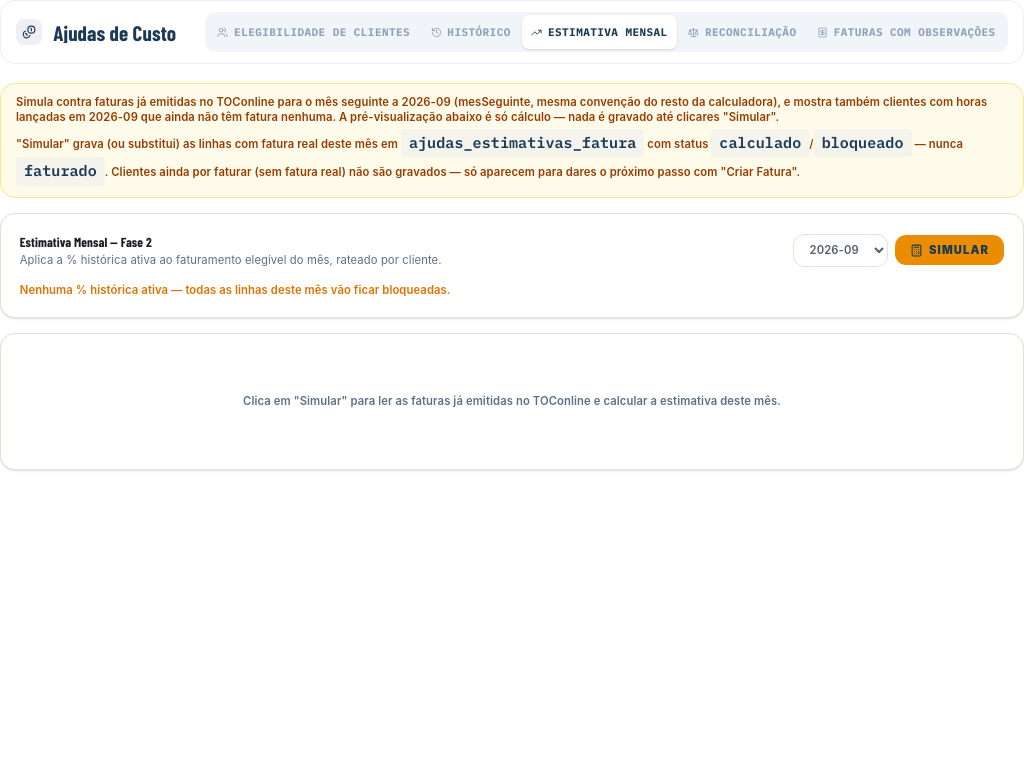
Test: EstimativaMensalTab — Fase 2a com faturas reais do TOConline › resolução manual de fatura sem cliente correspondente › "Não corresponde a nenhum cliente" confirma a ausência de correspondência e tira o aviso, sem entrar no cálculo
This screenshot has width=1024, height=768.
Click the button "Simular" at (950, 250), box top-left (895, 235), bottom-right (1004, 265)
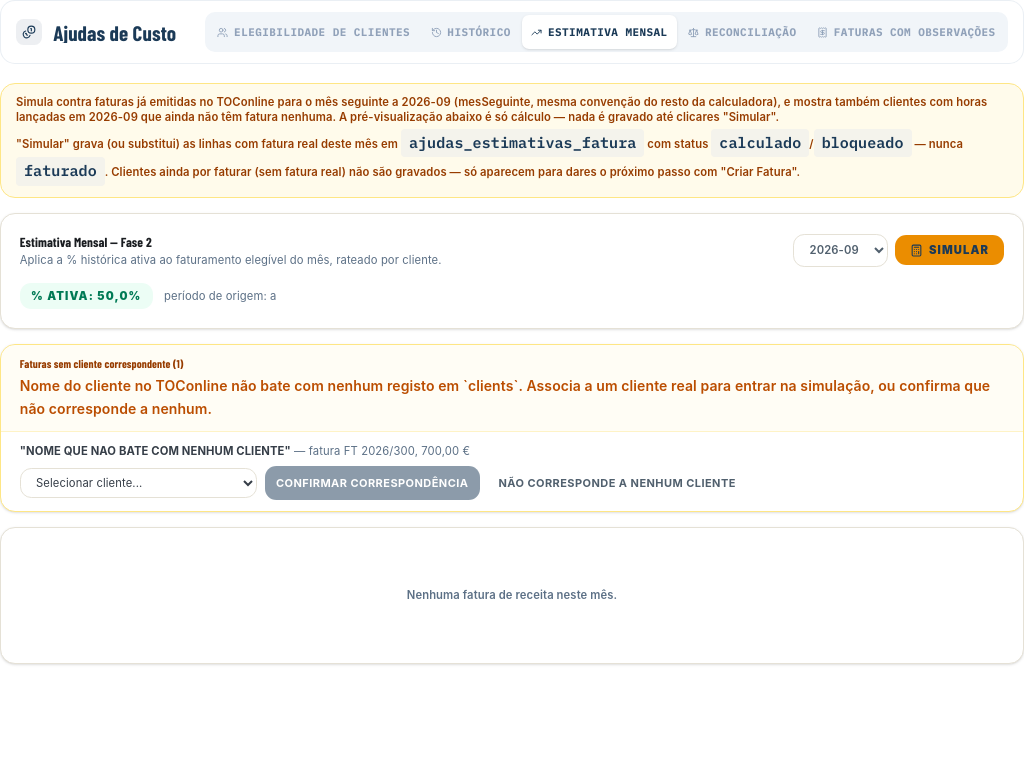
Now the text "\"NOME QUE NAO BATE COM NENHUM CLIENTE\"" is shown, box top-left (20, 444), bottom-right (291, 458)
Click the button "Não corresponde a nenhum cliente" at (617, 483), box top-left (487, 466), bottom-right (747, 500)
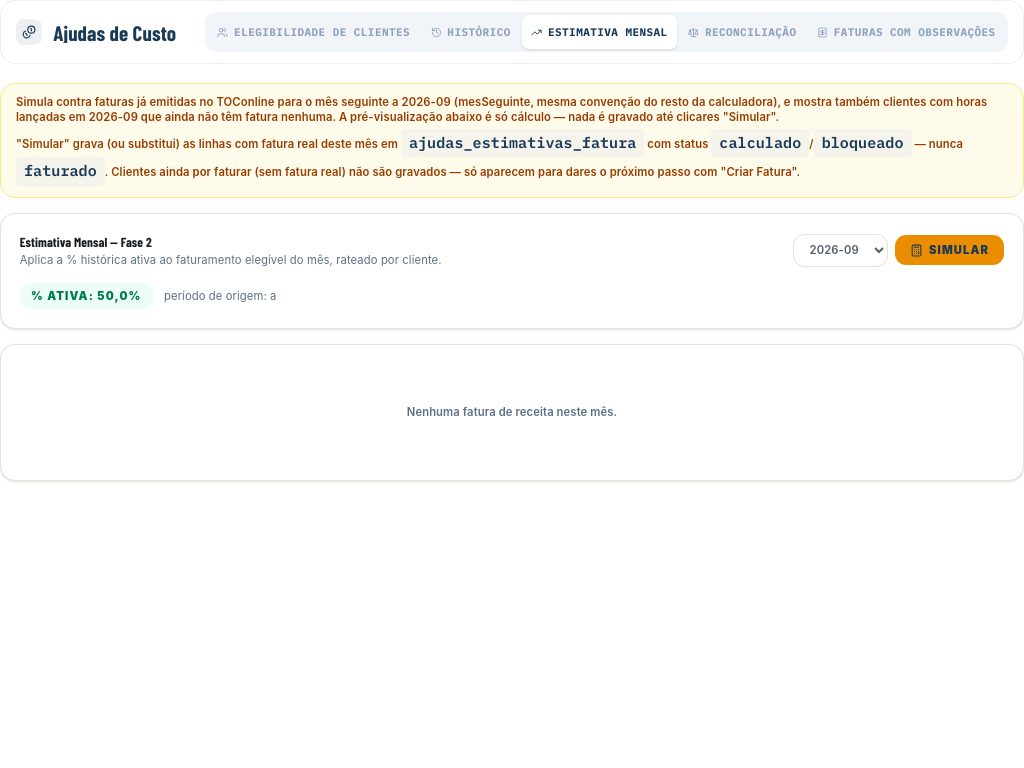
Now the text "Nenhuma fatura de receita neste mês." is shown, box top-left (407, 405), bottom-right (617, 419)
Now the heading "Faturas sem cliente correspondente" is gone
